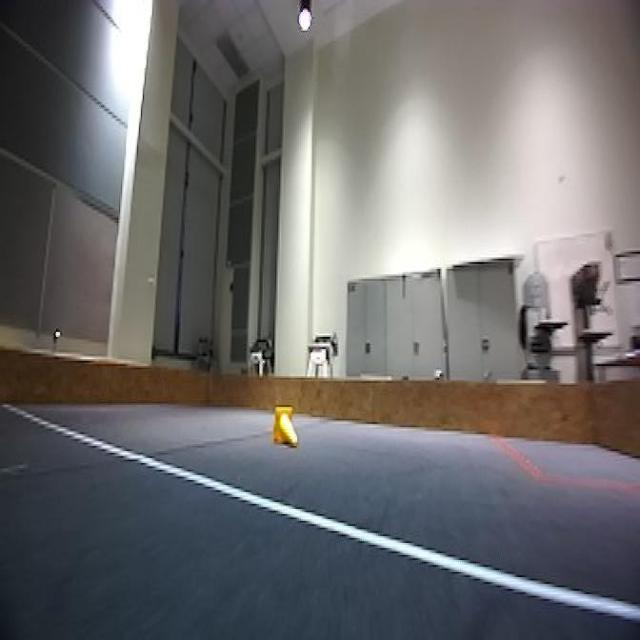frc_cone: (272, 407, 297, 446)
